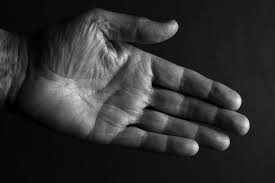palm: (43, 36, 154, 139)
